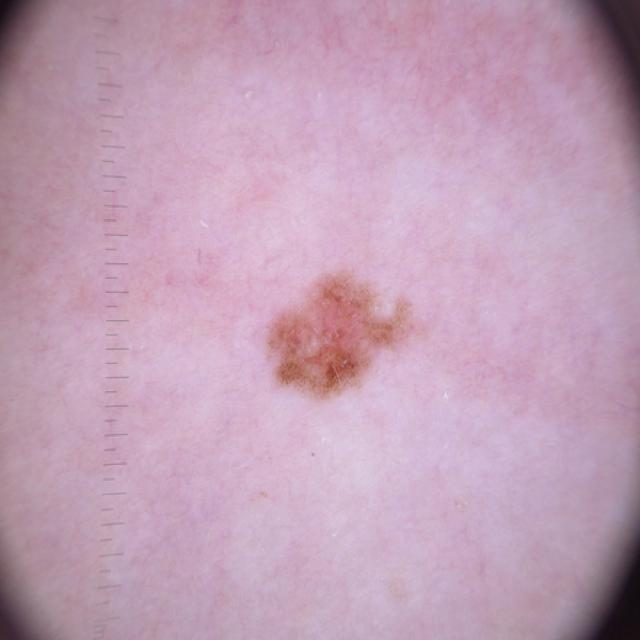NV: (261, 263, 414, 404)
